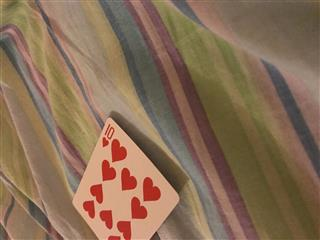TenOfHearts: (70, 115, 179, 240)
